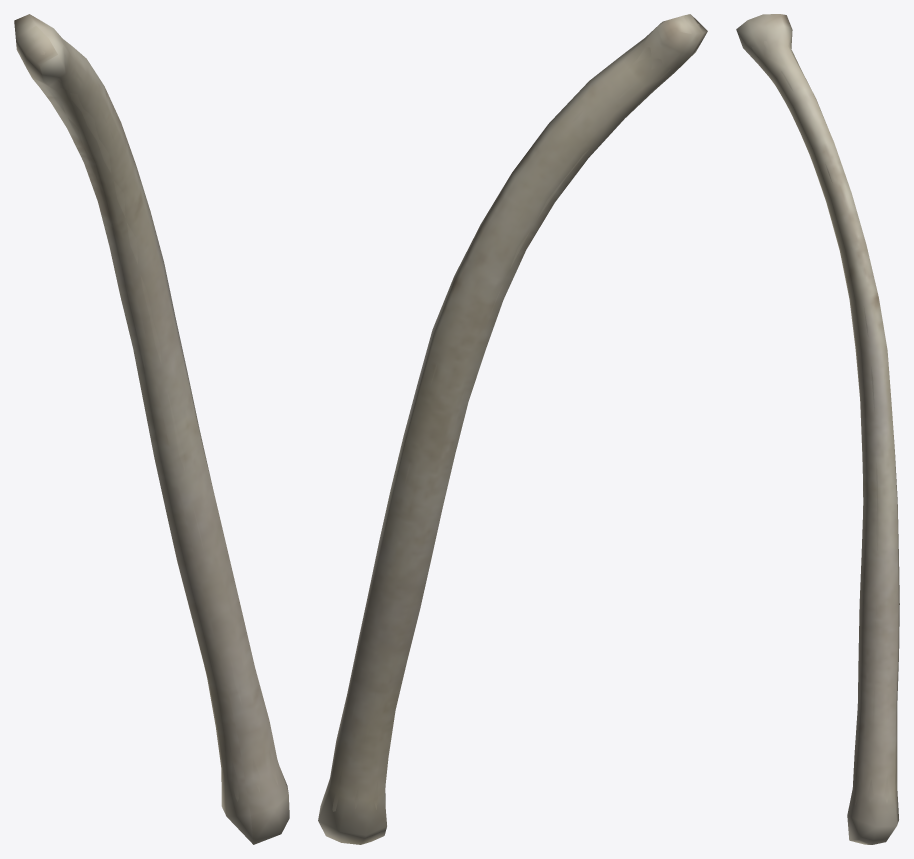
The model's file is Rib L06.fbx.
3 renders of one model, left to right at view 1: azimuth 30°, elevation 25°; view 2: azimuth 150°, elevation 25°; view 3: azimuth 270°, elevation 25°, orthographic. The views are drawn at different scales.
Parts seen in each view (by area): view 1: Rib L06 low, Rib L06; view 2: Rib L06 low, Rib L06; view 3: Rib L06 low, Rib L06.
Boxes of the visible parts, bbox=[...] form: Rib L06 low: bbox=[14, 14, 289, 844]; Rib L06: bbox=[29, 35, 278, 801]; Rib L06 low: bbox=[318, 14, 707, 844]; Rib L06: bbox=[327, 23, 699, 811]; Rib L06 low: bbox=[736, 14, 899, 844]; Rib L06: bbox=[751, 41, 896, 842].
Bounding box in the file's own units: 2.54 × 6.62 × 1.37.
1 material, 1 textured.
